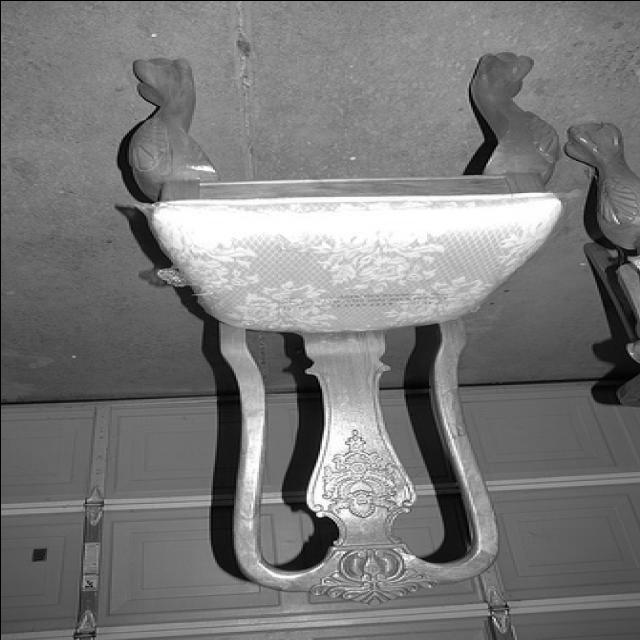chair: (122, 52, 562, 608)
